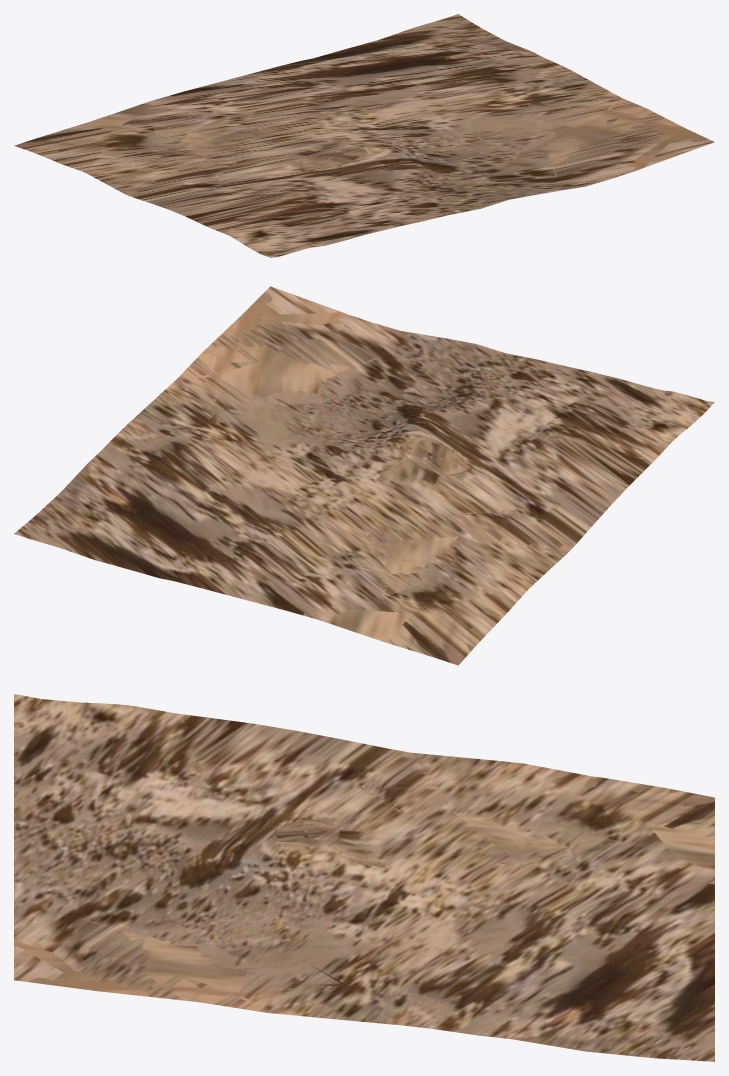
3 views of the same model, one above another, from view 1: azimuth 30°, elevation 25°; view 2: azimuth 150°, elevation 25°; view 3: azimuth 270°, elevation 25° (orthographic). The views are drawn at different scales.
Bounding box in the file's own units: 2.09 × 0.3731 × 2.09.
Materials: 3 (3 with a texture image).
